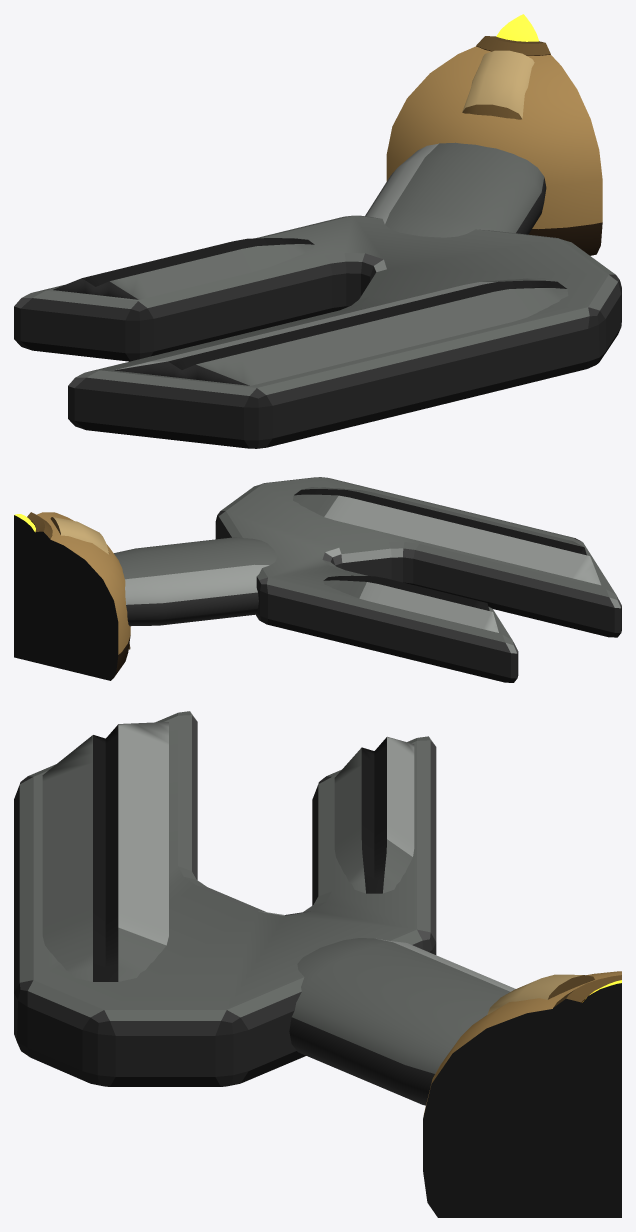
Rendered from spin_claw_39.glb.
3 renders of one model, top to bottom at view 1: azimuth 30°, elevation 25°; view 2: azimuth 150°, elevation 25°; view 3: azimuth 270°, elevation 25°, orthographic. The views are drawn at different scales.
Visible parts, largest first — view 1: spin_claw_39_arm3_plate, spin_claw_39_hub_dome, spin_claw_39_arm3_ridge0, spin_claw_39_arm3_rod, spin_claw_39_arm3_ridge1, spin_claw_39_hub_rib3, spin_claw_39_hub_bezel, spin_claw_39_hub_lens; view 2: spin_claw_39_arm3_plate, spin_claw_39_hub_dome, spin_claw_39_arm3_rod, spin_claw_39_arm3_ridge0, spin_claw_39_arm3_ridge1, spin_claw_39_hub_rib3, spin_claw_39_hub_bezel, spin_claw_39_hub_lens; view 3: spin_claw_39_arm3_plate, spin_claw_39_hub_dome, spin_claw_39_arm3_ridge0, spin_claw_39_arm3_rod, spin_claw_39_arm3_ridge1, spin_claw_39_hub_rib3, spin_claw_39_hub_bezel, spin_claw_39_hub_lens.
Part boxes in pixels (bbox=[...]): spin_claw_39_arm3_plate: bbox=[14, 215, 621, 448]; spin_claw_39_hub_dome: bbox=[386, 46, 602, 255]; spin_claw_39_arm3_ridge0: bbox=[114, 278, 568, 385]; spin_claw_39_arm3_rod: bbox=[365, 142, 546, 237]; spin_claw_39_arm3_ridge1: bbox=[53, 238, 314, 299]; spin_claw_39_hub_rib3: bbox=[462, 50, 534, 119]; spin_claw_39_hub_bezel: bbox=[476, 36, 550, 55]; spin_claw_39_hub_lens: bbox=[496, 14, 538, 41]; spin_claw_39_arm3_plate: bbox=[215, 477, 621, 682]; spin_claw_39_hub_dome: bbox=[14, 512, 130, 680]; spin_claw_39_arm3_rod: bbox=[114, 537, 276, 626]; spin_claw_39_arm3_ridge0: bbox=[293, 487, 600, 585]; spin_claw_39_arm3_ridge1: bbox=[323, 575, 498, 632]; spin_claw_39_hub_rib3: bbox=[50, 517, 130, 649]; spin_claw_39_hub_bezel: bbox=[14, 512, 52, 547]; spin_claw_39_hub_lens: bbox=[14, 514, 35, 543]; spin_claw_39_arm3_plate: bbox=[14, 711, 436, 1086]; spin_claw_39_hub_dome: bbox=[423, 971, 621, 1217]; spin_claw_39_arm3_ridge0: bbox=[42, 722, 168, 981]; spin_claw_39_arm3_rod: bbox=[289, 938, 515, 1105]; spin_claw_39_arm3_ridge1: bbox=[334, 736, 414, 893]; spin_claw_39_hub_rib3: bbox=[487, 974, 594, 1015]; spin_claw_39_hub_bezel: bbox=[553, 975, 621, 1023]; spin_claw_39_hub_lens: bbox=[579, 980, 621, 1027].
Bounding box in the file's own units: 21.53 × 6.14 × 14.4.
